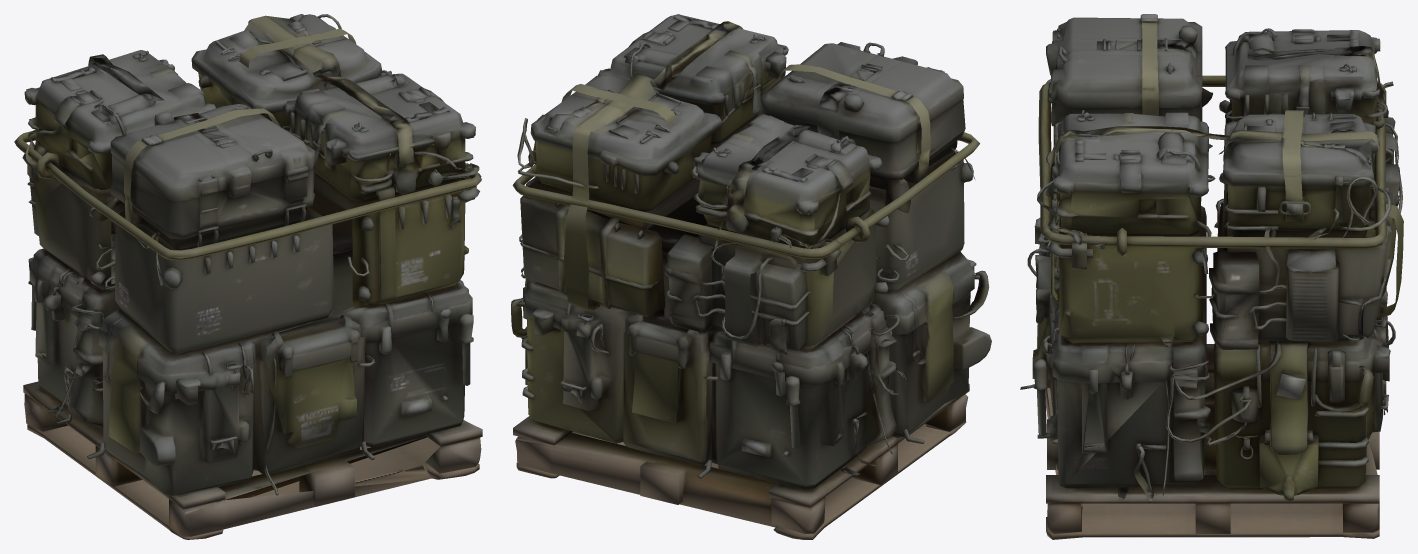
Rendered from ch4_meridian_crate_stack.glb.
3 renders of one model, left to right at view 1: azimuth 30°, elevation 25°; view 2: azimuth 150°, elevation 25°; view 3: azimuth 270°, elevation 25°, orthographic. The views are drawn at different scales.
Parts seen in each view (by area): view 1: tripo_node_f5c4e4e8-3376-4078-b9fc-911eb14a894c; view 2: tripo_node_f5c4e4e8-3376-4078-b9fc-911eb14a894c; view 3: tripo_node_f5c4e4e8-3376-4078-b9fc-911eb14a894c.
Part boxes in pixels (<box>): tripo_node_f5c4e4e8-3376-4078-b9fc-911eb14a894c: <box>14,14,482,539</box>; tripo_node_f5c4e4e8-3376-4078-b9fc-911eb14a894c: <box>511,14,991,539</box>; tripo_node_f5c4e4e8-3376-4078-b9fc-911eb14a894c: <box>1020,14,1403,539</box>.
Bounding box in the file's own units: 0.998 × 0.998 × 0.8965.
Materials: 1 (1 with a texture image).
